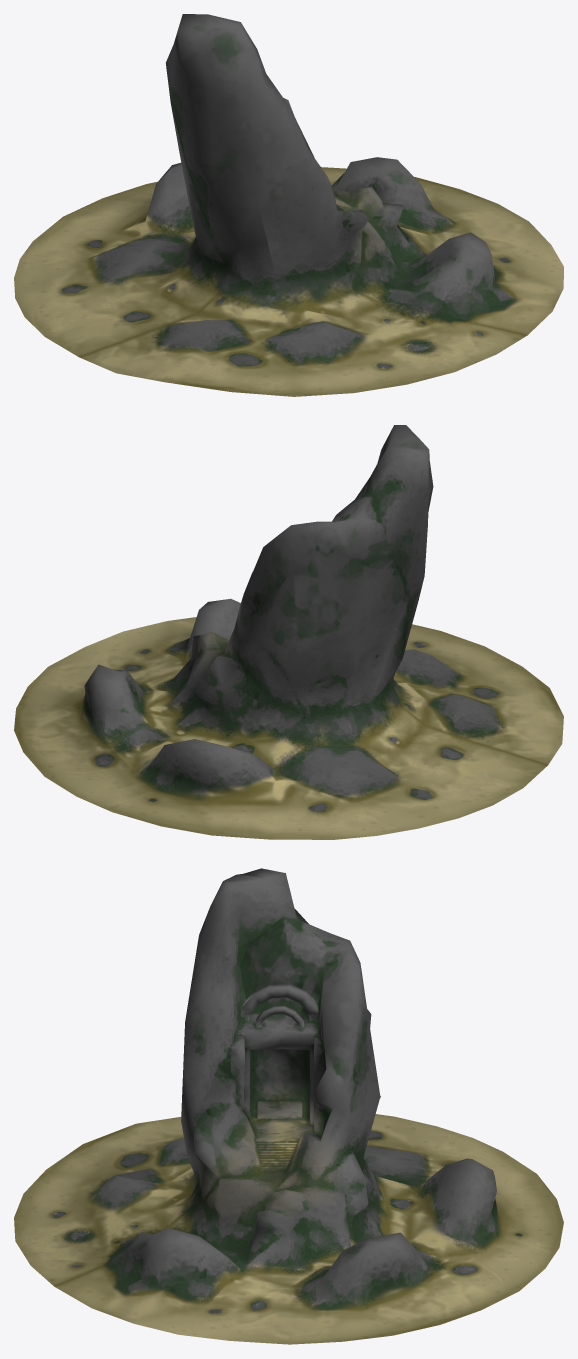
3 views of the same model, one above another, from view 1: azimuth 30°, elevation 25°; view 2: azimuth 150°, elevation 25°; view 3: azimuth 270°, elevation 25° (orthographic).
Visible parts, largest first — view 1: Base; view 2: Base; view 3: Base.
Part boxes in pixels (bbox=[...]): Base: bbox=[14, 14, 563, 396]; Base: bbox=[14, 425, 563, 839]; Base: bbox=[14, 868, 563, 1344].
Size of the model in its own units: 58.08 by 34.62 by 56.71.
